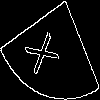X: (24, 25, 67, 77)
